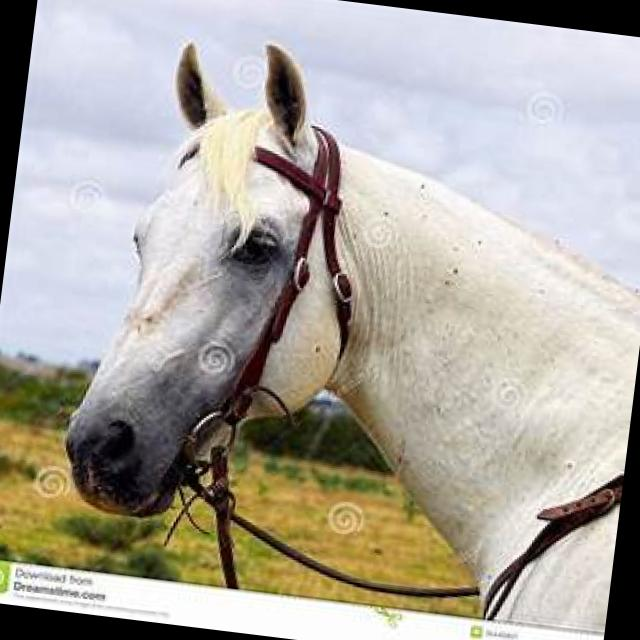animal: (6, 5, 640, 640)
